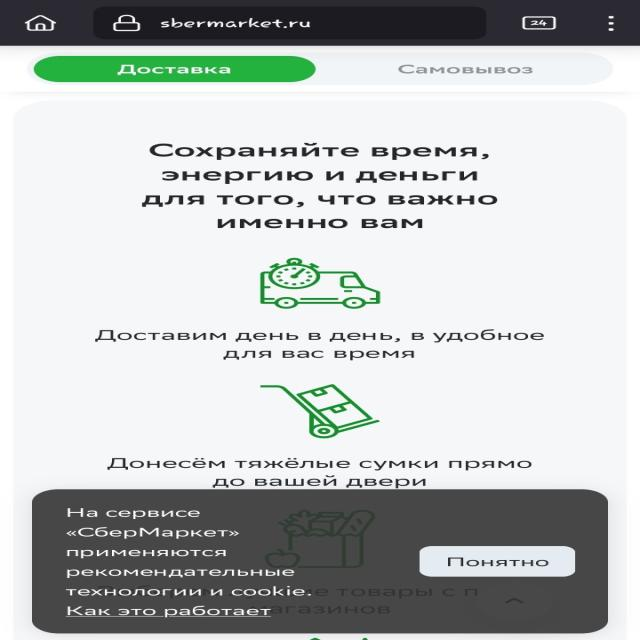button: (420, 546, 576, 578)
site: (36, 491, 608, 634)
